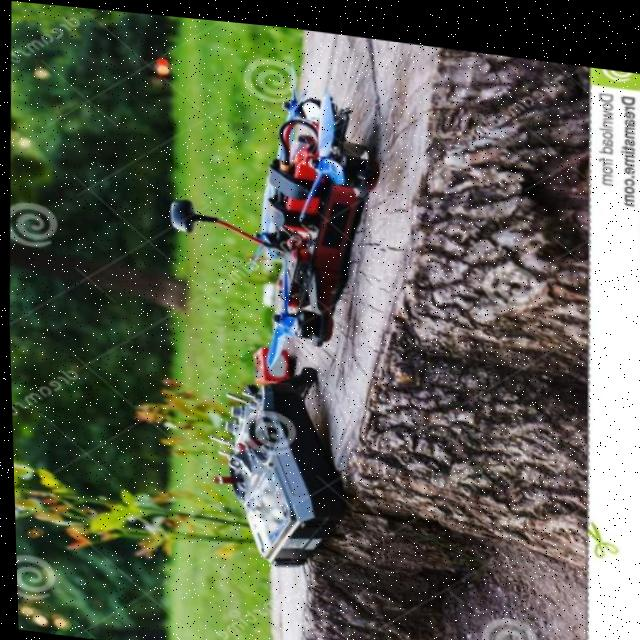drones: (152, 34, 416, 387)
